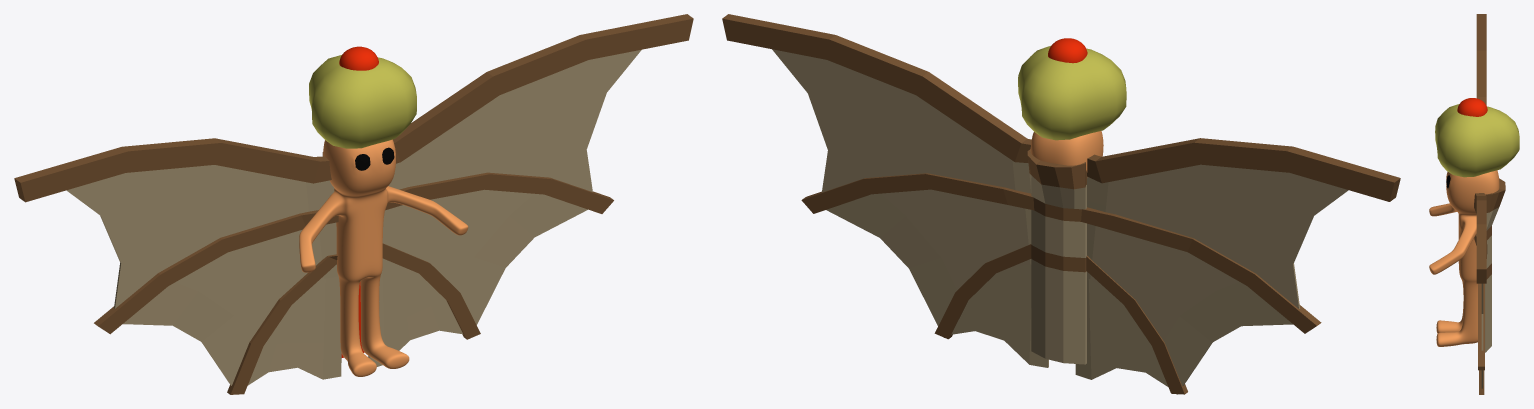
File: Hezarfen_Çelebi.fbx
3 renders of one model, left to right at view 1: azimuth 30°, elevation 25°; view 2: azimuth 150°, elevation 25°; view 3: azimuth 270°, elevation 25°, orthographic. The views are drawn at different scales.
Parts seen in each view (by area): view 1: Cube.012; view 2: Cube.012; view 3: Cube.012.
Part boxes in pixels (x1,y1,x2,y2): Cube.012: [14, 14, 693, 394]; Cube.012: [722, 14, 1400, 394]; Cube.012: [1429, 14, 1519, 394].
Size of the model in its own units: 67.28 by 31.27 by 10.09.
